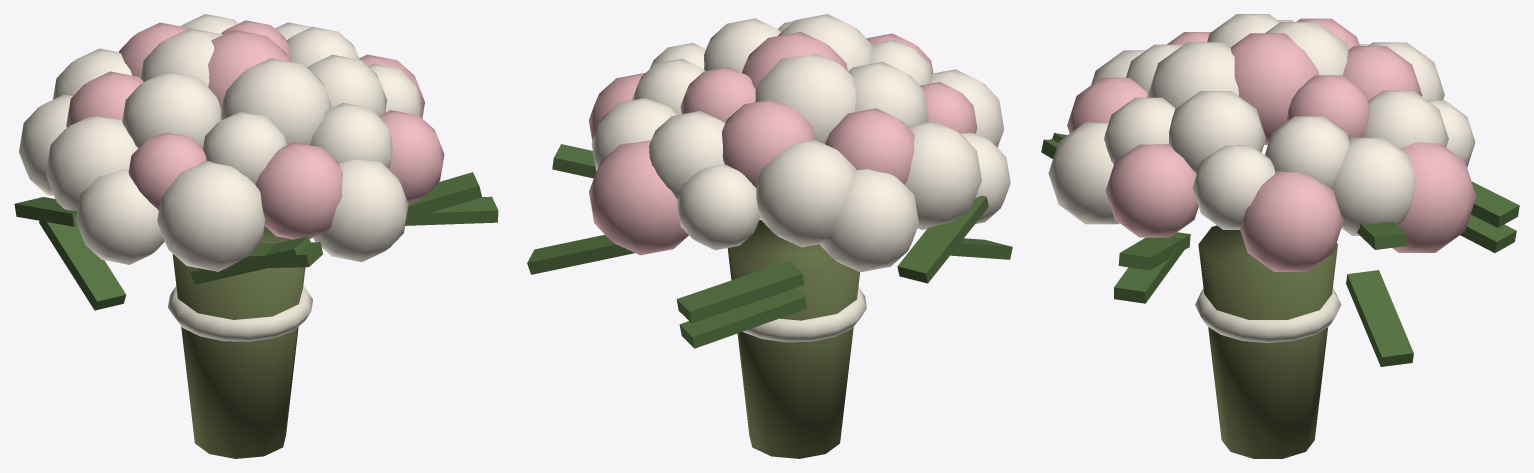
File: strauss.glb
3 renders of one model, left to right at view 1: azimuth 30°, elevation 25°; view 2: azimuth 150°, elevation 25°; view 3: azimuth 270°, elevation 25°, orthographic.
Parts seen in each view (by area): view 1: strauss; view 2: strauss; view 3: strauss.
Part boxes in pixels (x1,y1,x2,y2): strauss: [14, 14, 498, 458]; strauss: [527, 14, 1012, 458]; strauss: [1041, 14, 1519, 458].
Bounding box in the file's own units: 0.2688 × 0.2682 × 0.2878.
